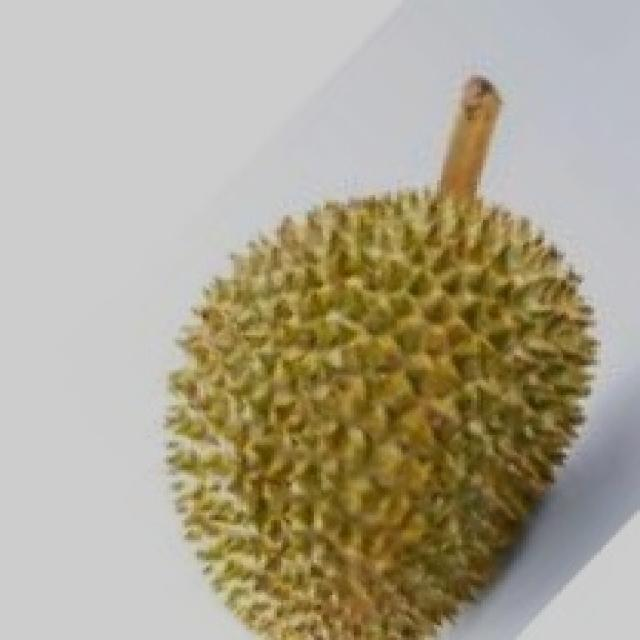fruit: (274, 198, 640, 638), (111, 270, 477, 640)
